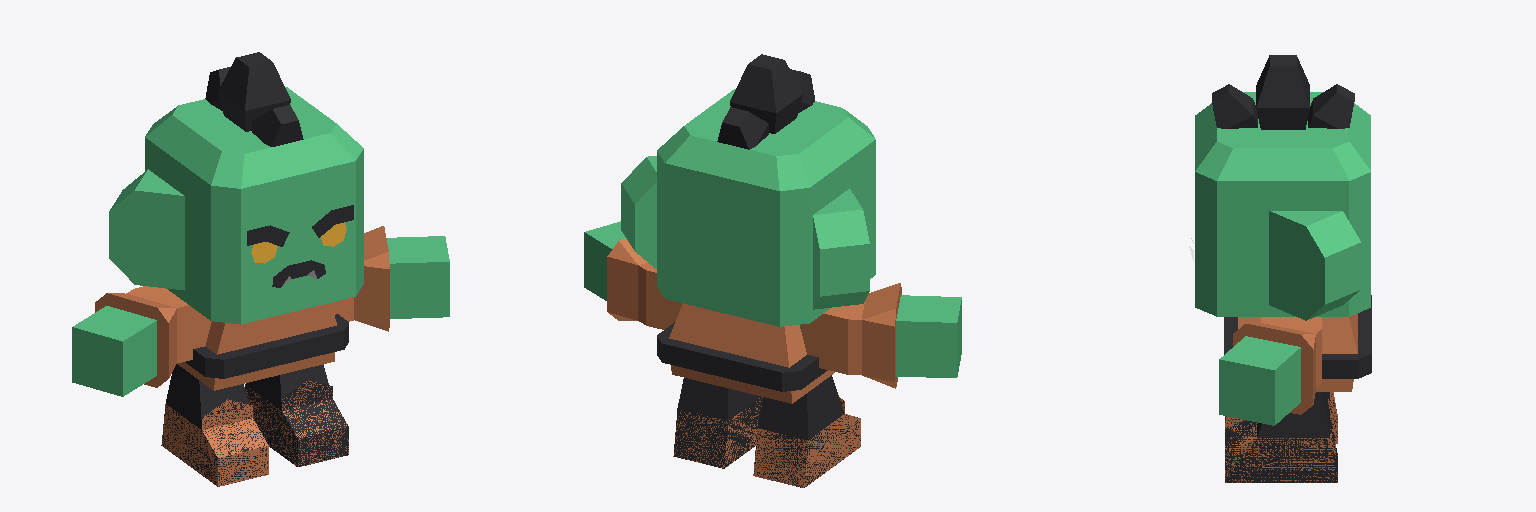
The model's file is character-orc.obj.
3 views of the same model, side by side, from view 1: azimuth 30°, elevation 25°; view 2: azimuth 150°, elevation 25°; view 3: azimuth 270°, elevation 25° (orthographic).
Parts seen in each view (by area): view 1: head, arm-right, body, leg-right, arm-left, leg-left; view 2: head, arm-right, body, leg-right, leg-left, arm-left; view 3: head, arm-left, leg-left, body.
Part boxes in pixels (bbox=[...]): head: bbox=[109, 52, 363, 324]; arm-right: bbox=[72, 286, 211, 396]; body: bbox=[178, 303, 348, 390]; leg-right: bbox=[161, 364, 268, 486]; arm-left: bbox=[331, 226, 449, 331]; leg-left: bbox=[245, 364, 348, 466]; head: bbox=[621, 54, 875, 326]; arm-right: bbox=[800, 283, 961, 388]; body: bbox=[657, 303, 834, 403]; leg-right: bbox=[753, 375, 860, 487]; leg-left: bbox=[673, 378, 762, 468]; arm-left: bbox=[584, 221, 682, 329]; head: bbox=[1189, 55, 1370, 320]; arm-left: bbox=[1219, 317, 1321, 425]; leg-left: bbox=[1225, 392, 1337, 482]; body: bbox=[1224, 295, 1371, 391].
Bounding box in the file's own units: 0.7806 × 0.7803 × 0.3325.